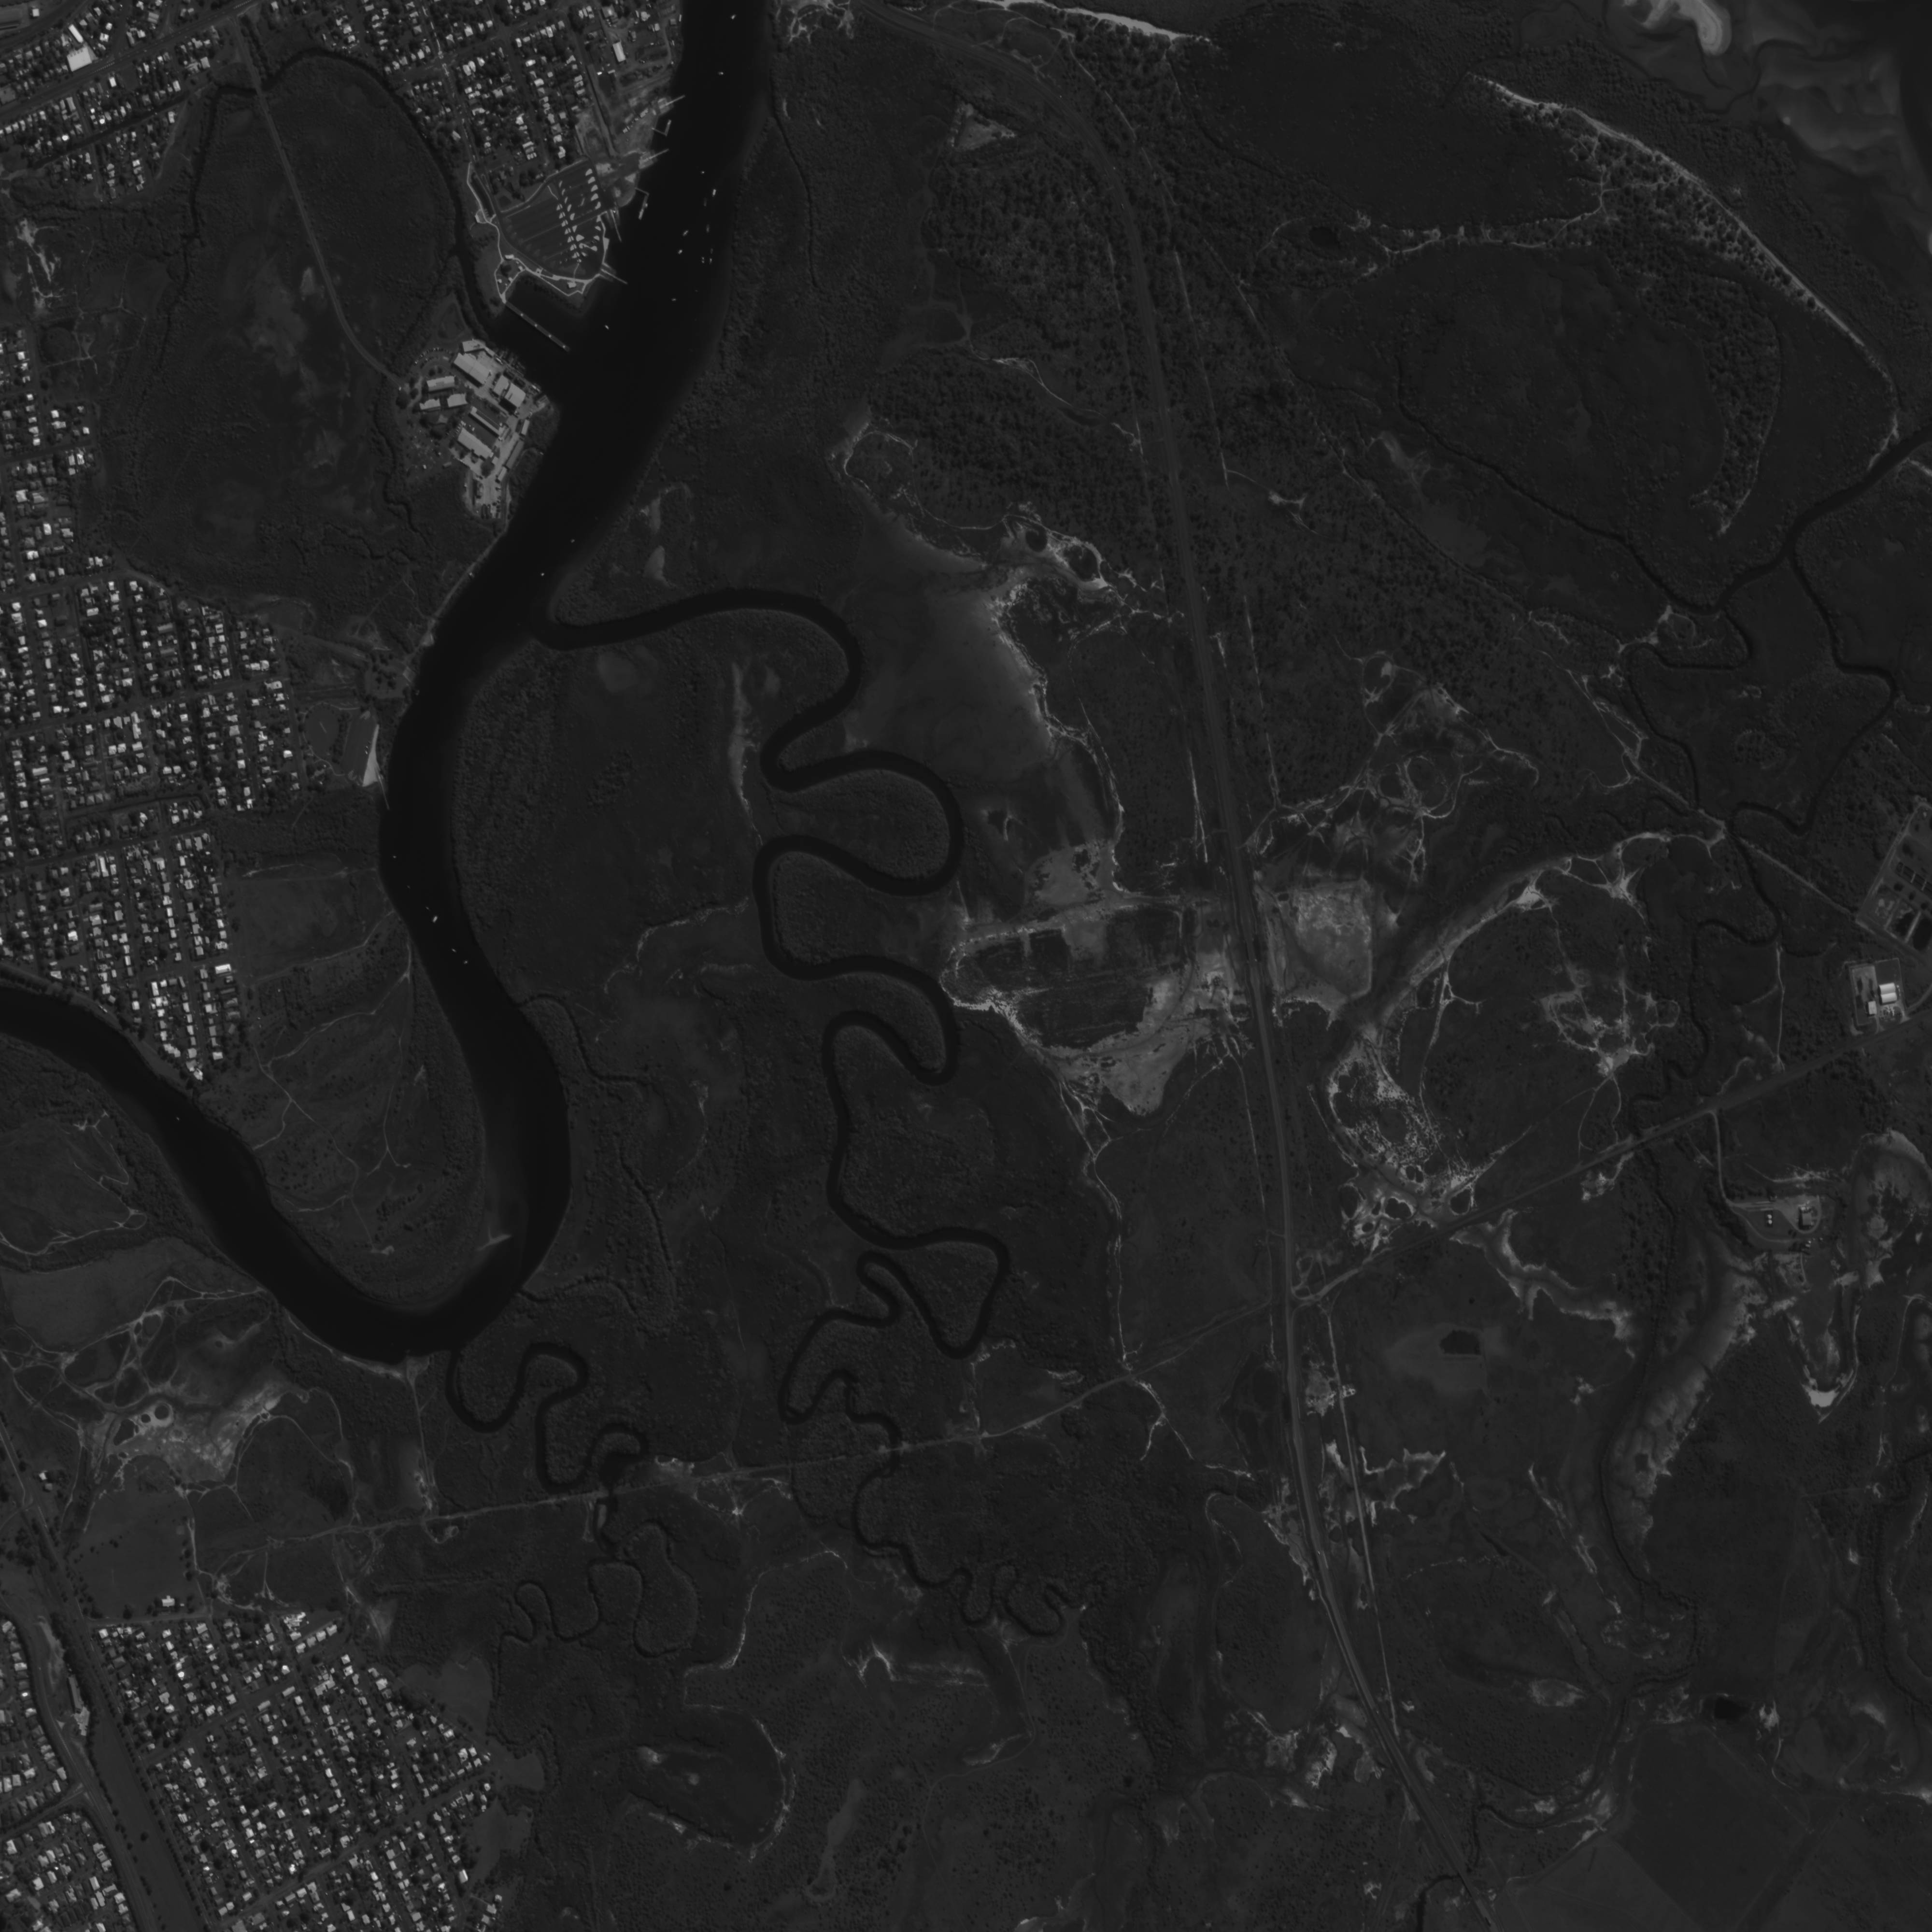bridge: (249, 78, 270, 102), (1453, 1863, 1472, 1883), (887, 1443, 906, 1457)
harbor: (625, 183, 654, 223), (652, 114, 676, 140)
